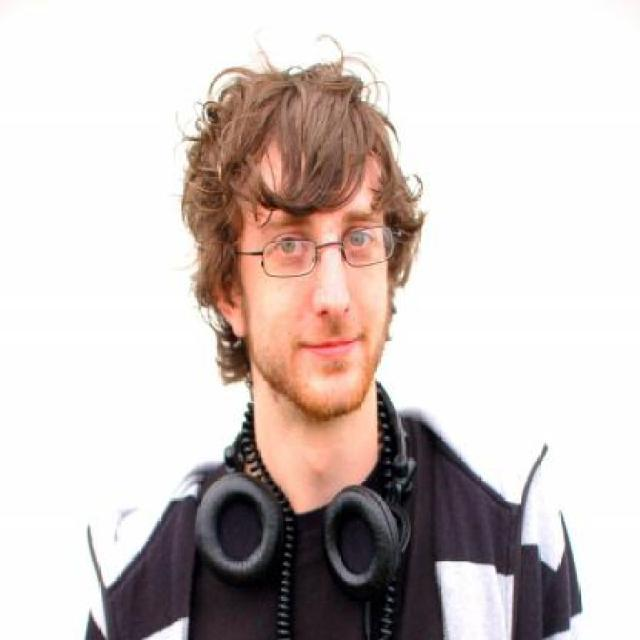earphone: (172, 431, 468, 605)
